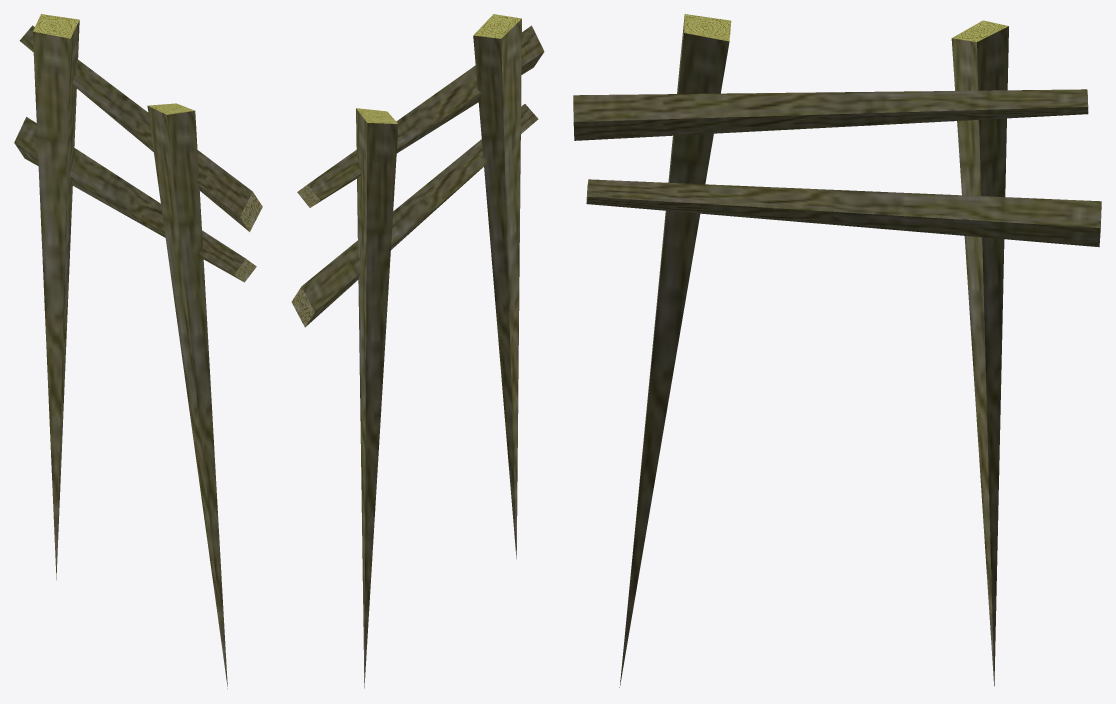
Rendered from fence01.obj.
The picture shows the model from 3 angles, left to right: view 1: azimuth 30°, elevation 25°; view 2: azimuth 150°, elevation 25°; view 3: azimuth 270°, elevation 25°; orthographic projection. The views are drawn at different scales.
Visible parts, largest first — view 1: Duplicate04, Duplicate02, Duplicate03, Duplicate01, Box01; view 2: Duplicate04, Duplicate02, Duplicate03, Duplicate01, Duplicate05, Box01; view 3: Duplicate03, Duplicate01, Duplicate02, Duplicate04, Duplicate05.
Part boxes in pixels (<box>): Duplicate04: <box>147,105,227,688</box>; Duplicate02: <box>32,20,79,579</box>; Duplicate03: <box>14,117,256,282</box>; Duplicate01: <box>19,25,262,231</box>; Box01: <box>33,14,79,38</box>; Duplicate04: <box>473,19,521,558</box>; Duplicate02: <box>356,108,398,688</box>; Duplicate03: <box>291,104,538,327</box>; Duplicate01: <box>297,25,544,207</box>; Duplicate05: <box>473,14,521,38</box>; Box01: <box>356,108,397,123</box>; Duplicate03: <box>586,179,1101,247</box>; Duplicate01: <box>573,89,1088,140</box>; Duplicate02: <box>951,26,1008,686</box>; Duplicate04: <box>619,16,729,687</box>; Duplicate05: <box>684,14,731,41</box>.
Size of the model in its own units: 8.35 by 82.87 by 59.86.
